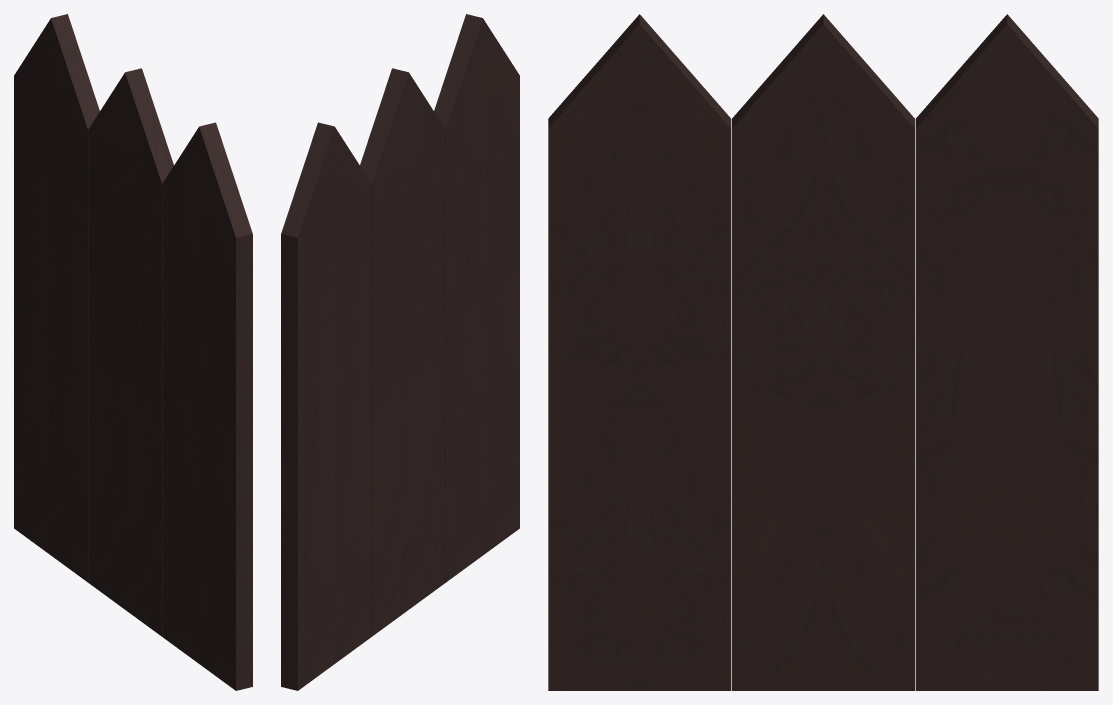
The model's file is Fence Section EXPORT.fbx.
3 views of the same model, side by side, from view 1: azimuth 30°, elevation 25°; view 2: azimuth 150°, elevation 25°; view 3: azimuth 270°, elevation 25° (orthographic). The views are drawn at different scales.
Visible parts, largest first — view 1: Cube.002, Cube.001, Cube; view 2: Cube.001, Cube.002, Cube; view 3: Cube.001, Cube.002, Cube.
Part boxes in pixels (<box>): Cube.002: <box>162,122,252,690</box>; Cube.001: <box>14,14,99,582</box>; Cube: <box>88,68,173,636</box>; Cube.001: <box>281,122,371,690</box>; Cube.002: <box>434,14,519,582</box>; Cube: <box>360,68,445,636</box>; Cube.001: <box>915,14,1098,690</box>; Cube.002: <box>548,14,731,690</box>; Cube: <box>732,14,914,690</box>.
Size of the model in its own units: 16.42 by 502 by 376.
